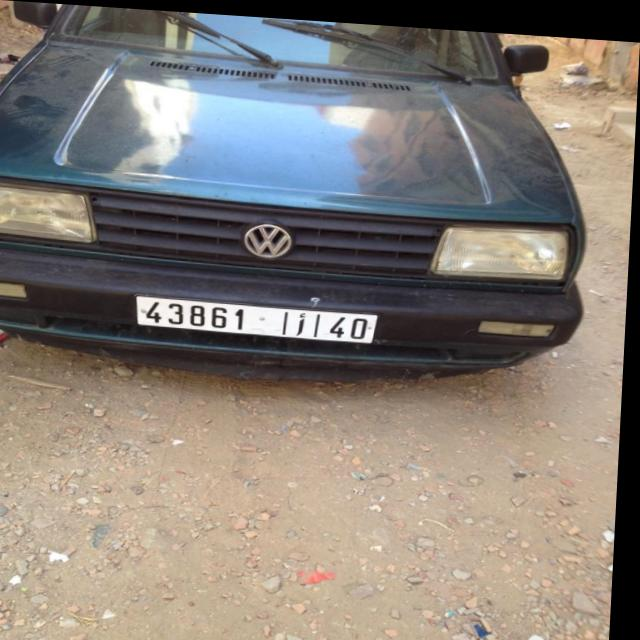License-Plate: (140, 293, 381, 337)
